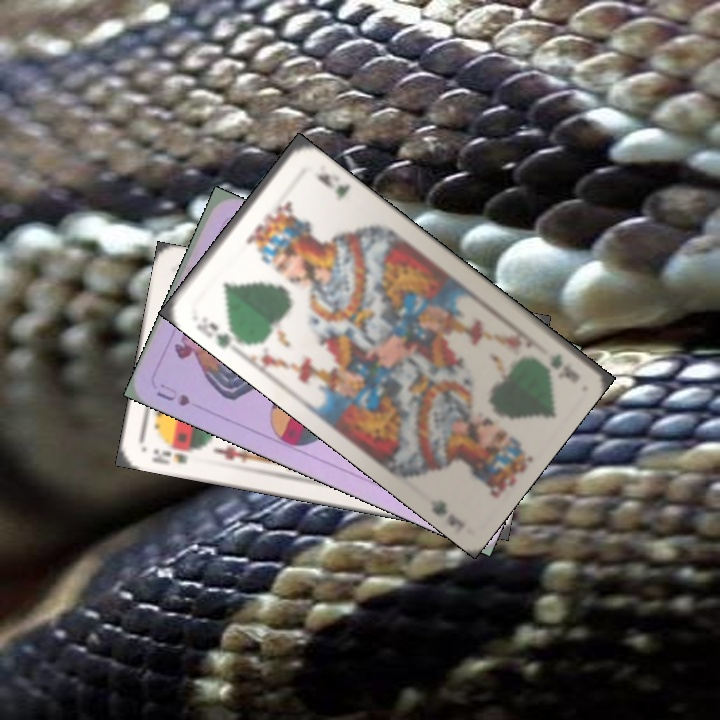GK: (192, 318, 242, 351), (545, 349, 582, 386)
SK: (148, 445, 190, 467)
SU: (152, 379, 193, 409)
